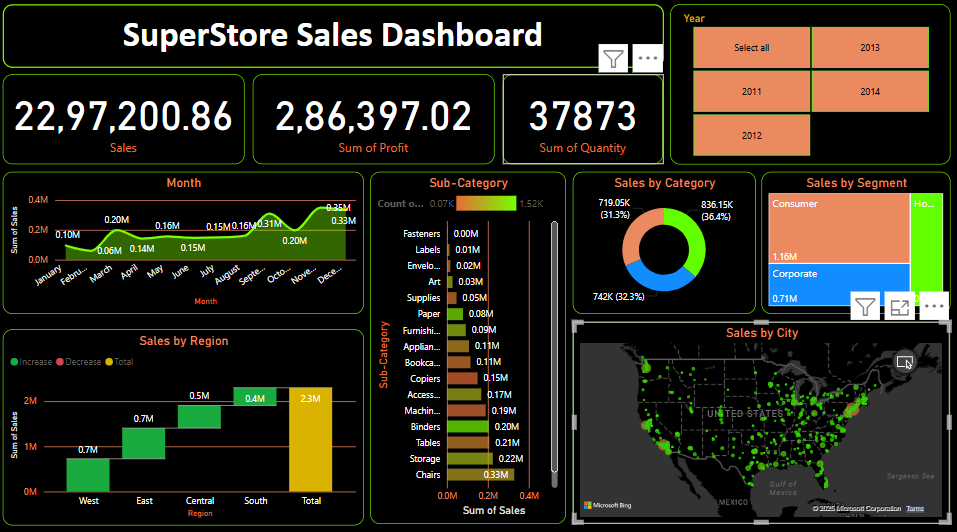

The page's visual inventory and layout, read from the dashboard file:
{"tool":"powerbi","page":{"name":"Page 1","canvas":[1280,720],"ordinal":0},"visuals":[{"type":"textbox","box":[4.7,8.1,881.4,84.9],"z":0},{"type":"lineChart","title":"Month","fields":{"Category":["Database.Order Date.Variation.Date Hierarchy.Month"],"Y":["Sum(Database.Sales)"]},"box":[4.7,231.4,481.4,189.5],"z":1000},{"type":"clusteredBarChart","title":"Sub-Category","fields":{"Category":["Database.Sub-Category"],"Y":["Sum(Database.Sales)"]},"box":[495.4,231.4,260.5,469.8],"z":2000},{"type":"map","title":"Sales by City","fields":{"Category":["Database.City"],"Size":["Sum(Database.Sales)"]},"box":[765.1,431.4,503.5,269.8],"z":3000},{"type":"waterfallChart","title":"Sales by Region","fields":{"Category":["Database.Region"],"Y":["Sum(Database.Sales)"]},"box":[4.7,441.9,481.4,261.6],"z":4000},{"type":"donutChart","title":"Sales by Category","fields":{"Category":["Database.Category"],"Y":["Sum(Database.Sales)"]},"box":[765.1,231.4,244.2,189.5],"z":5000},{"type":"treemap","title":"Sales by Segment","fields":{"Group":["Database.Segment"],"Values":["Sum(Database.Sales)"]},"box":[1017.4,231.4,252.3,189.5],"z":6000},{"type":"card","fields":{"Values":["Sum(Database.Sales)"]},"box":[4.7,102.3,322.1,119.8],"z":7000},{"type":"card","fields":{"Values":["Sum(Database.Profit)"]},"box":[338.4,102.3,322.1,119.8],"z":8000},{"type":"card","fields":{"Values":["Sum(Database.Quantity)"]},"box":[672.1,102.3,214,119.8],"z":9000},{"type":"slicer","fields":{"Values":["Database.Order Date.Variation.Date Hierarchy.Year"]},"box":[895.4,8.1,373.3,214],"z":10000}]}

Visuals, with their boxes in screenshot pixels (x1, y1, x2, y2), scaled from the page's 1280x720 canvas onto the 957x532 screenshot:
textbox: 4, 6, 662, 69
"Month" lineChart: 4, 171, 363, 311
"Sub-Category" clusteredBarChart: 370, 171, 565, 518
"Sales by City" map: 572, 319, 948, 518
"Sales by Region" waterfallChart: 4, 327, 363, 520
"Sales by Category" donutChart: 572, 171, 755, 311
"Sales by Segment" treemap: 761, 171, 949, 311
card - Sum(Database.Sales): 4, 76, 244, 164
card - Sum(Database.Profit): 253, 76, 494, 164
card - Sum(Database.Quantity): 502, 76, 662, 164
slicer - Database.Order Date.Variation.Date Hierarchy.Year: 669, 6, 949, 164
